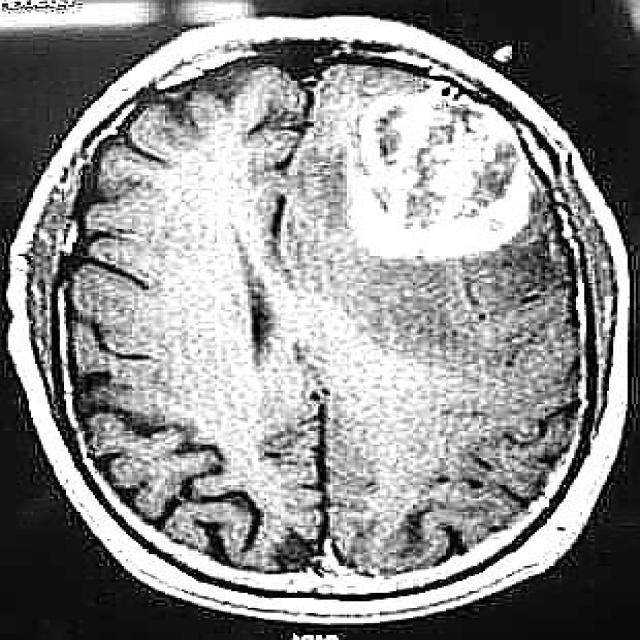Tumor-Cell: (354, 87, 542, 269)
